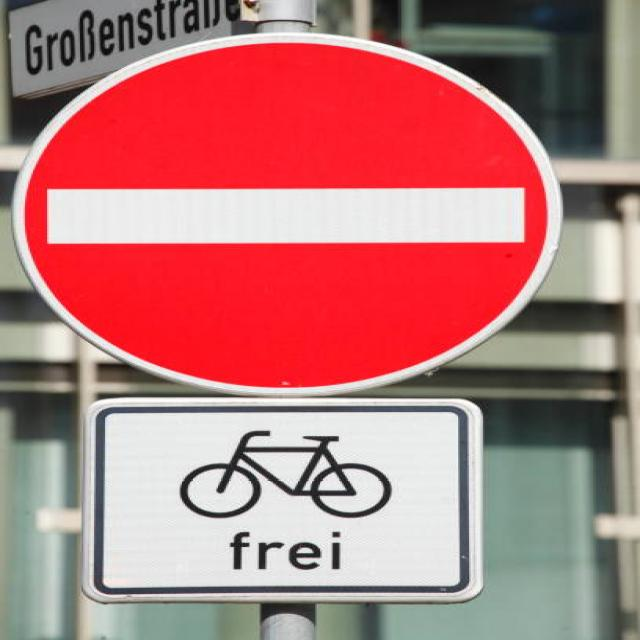do_not_enter: (10, 28, 569, 406)
